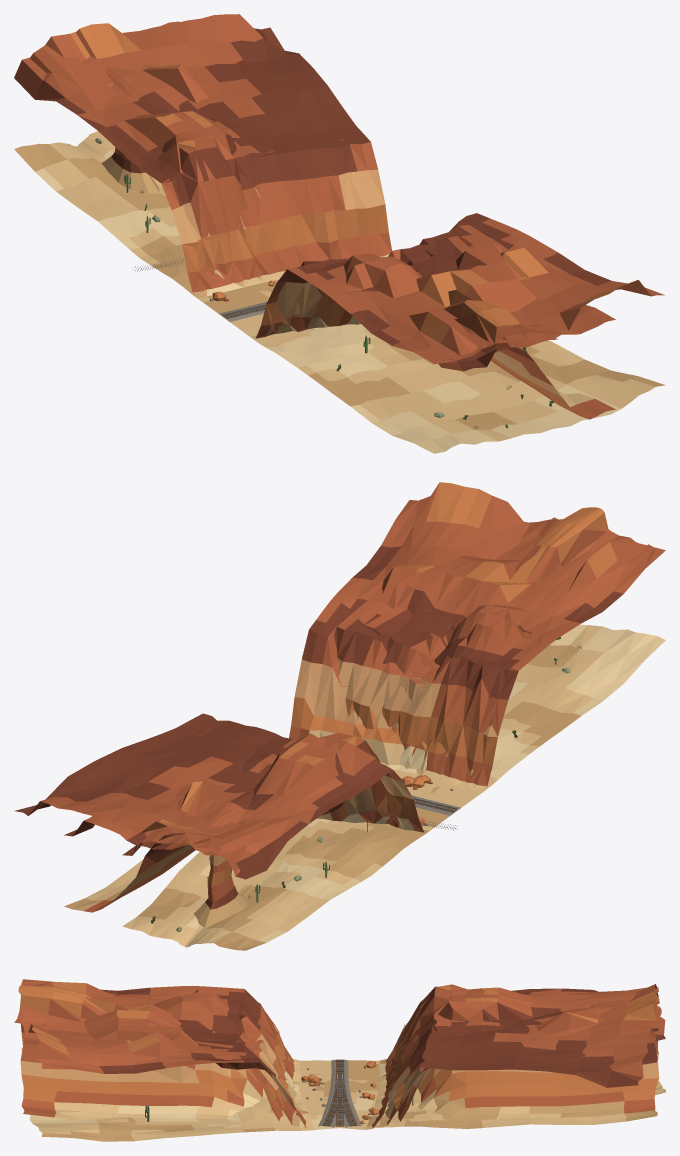
The model's file is Joined_Chunck_CurveL_A.fbx.
3 views of the same model, one above another, from view 1: azimuth 30°, elevation 25°; view 2: azimuth 150°, elevation 25°; view 3: azimuth 270°, elevation 25° (orthographic). The views are drawn at different scales.
Parts seen in each view (by area): view 1: FG_Chunk_CanyonDeep_CurveR_A_SceneryNear, FG_Chunk_CurveL_A_SceneryMid, FG_Chunk_CanyonDeep_Mid_A_Ground, FG_Chunk_CanyonDeep_CurveL_A_Ground, FG_Chunk_CanyonDeep_Exit_A_Track; view 2: FG_Chunk_CanyonDeep_CurveR_A_SceneryNear, FG_Chunk_CurveL_A_SceneryMid, FG_Chunk_CanyonDeep_Mid_A_Ground, FG_Chunk_CanyonDeep_CurveL_A_Ground, FG_Chunk_CanyonDeep_Exit_A_Track; view 3: FG_Chunk_CanyonDeep_Exit_A_Track, FG_Chunk_CanyonDeep_CurveR_A_SceneryNear, FG_Chunk_CanyonDeep_Mid_A_Ground, FG_Chunk_CanyonDeep_CurveL_A_Ground, FG_Chunk_CurveL_A_SceneryMid.
Part boxes in pixels (box(x1,y1,x2,y2)): FG_Chunk_CanyonDeep_CurveR_A_SceneryNear: box(76, 14, 557, 363); FG_Chunk_CurveL_A_SceneryMid: box(14, 131, 665, 453); FG_Chunk_CanyonDeep_Mid_A_Ground: box(30, 21, 615, 363); FG_Chunk_CanyonDeep_CurveL_A_Ground: box(14, 57, 664, 371); FG_Chunk_CanyonDeep_Exit_A_Track: box(31, 31, 615, 419); FG_Chunk_CanyonDeep_CurveR_A_SceneryNear: box(15, 507, 656, 870); FG_Chunk_CurveL_A_SceneryMid: box(122, 624, 665, 950); FG_Chunk_CanyonDeep_Mid_A_Ground: box(64, 519, 663, 879); FG_Chunk_CanyonDeep_CurveL_A_Ground: box(122, 482, 665, 879); FG_Chunk_CanyonDeep_Exit_A_Track: box(64, 542, 646, 912); FG_Chunk_CanyonDeep_Exit_A_Track: box(20, 984, 659, 1128); FG_Chunk_CanyonDeep_CurveR_A_SceneryNear: box(14, 981, 658, 1129); FG_Chunk_CanyonDeep_Mid_A_Ground: box(21, 980, 658, 1127); FG_Chunk_CanyonDeep_CurveL_A_Ground: box(22, 979, 665, 1129); FG_Chunk_CurveL_A_SceneryMid: box(21, 1024, 665, 1141).
Bounding box in the file's own units: 7956 × 3556 × 20566.
